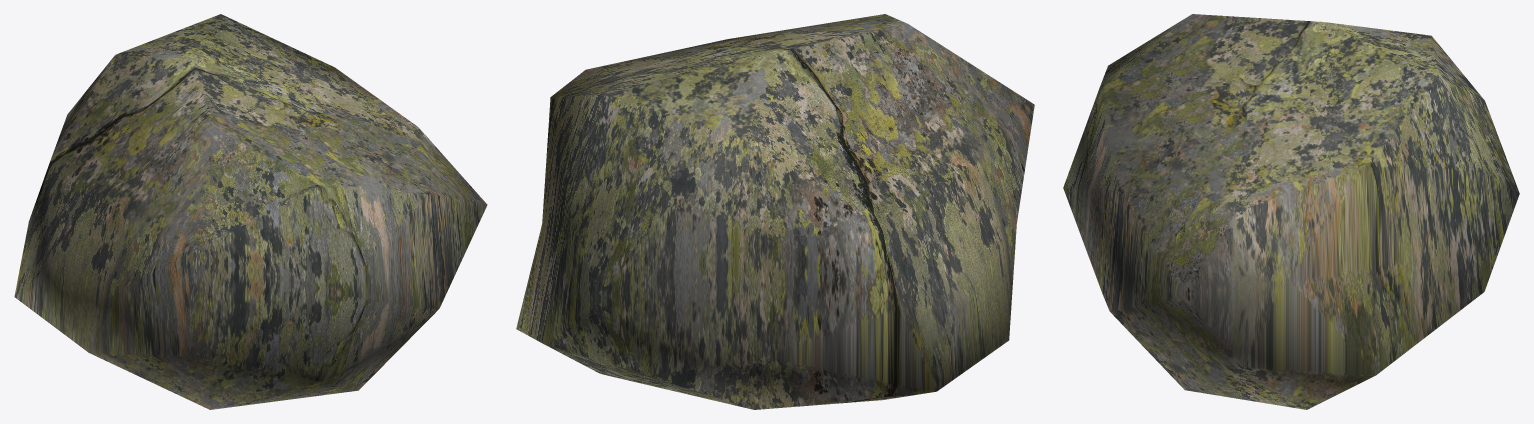
Rendered from boulder_a_lod2.gltf.
3 views of the same model, side by side, from view 1: azimuth 30°, elevation 25°; view 2: azimuth 150°, elevation 25°; view 3: azimuth 270°, elevation 25° (orthographic). The views are drawn at different scales.
Parts seen in each view (by area): view 1: boulder_a_LOD2; view 2: boulder_a_LOD2; view 3: boulder_a_LOD2.
Part boxes in pixels (bbox=[...]): boulder_a_LOD2: bbox=[14, 14, 487, 409]; boulder_a_LOD2: bbox=[516, 14, 1034, 409]; boulder_a_LOD2: bbox=[1063, 14, 1519, 409].
Bounding box in the file's own units: 1.81 × 1.39 × 1.81.
1 material, 1 textured.
